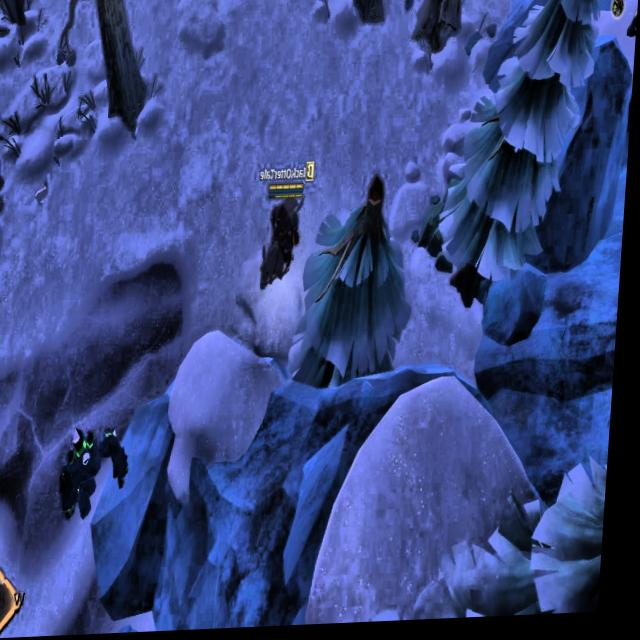sandstone: (417, 177, 467, 274)
